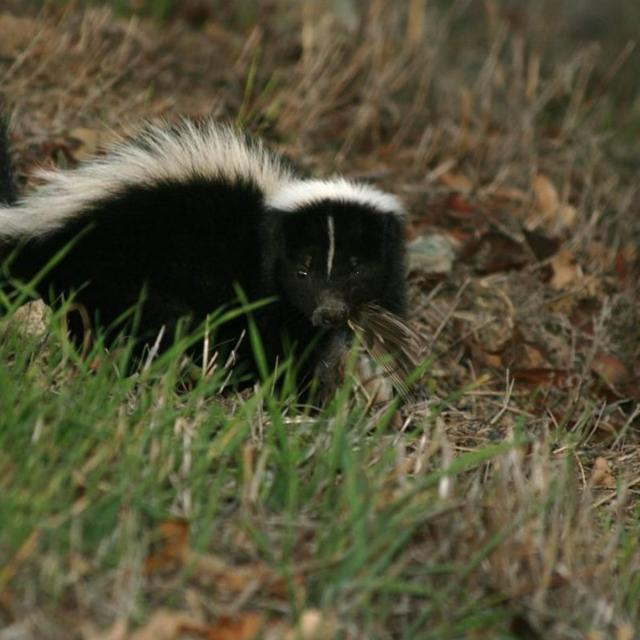Skunk: (0, 106, 424, 365)
